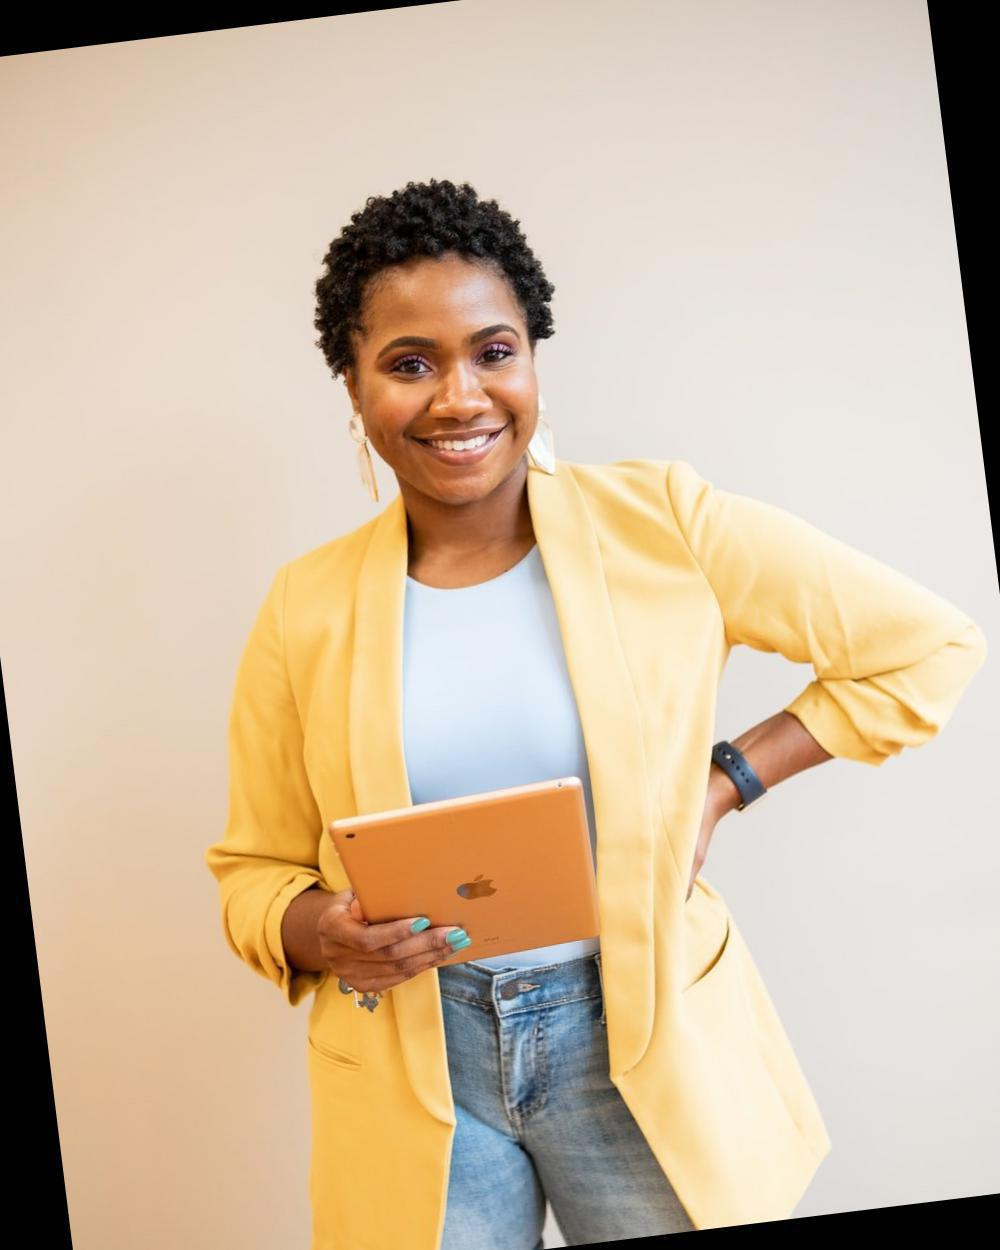Sober: (371, 283, 537, 491)
